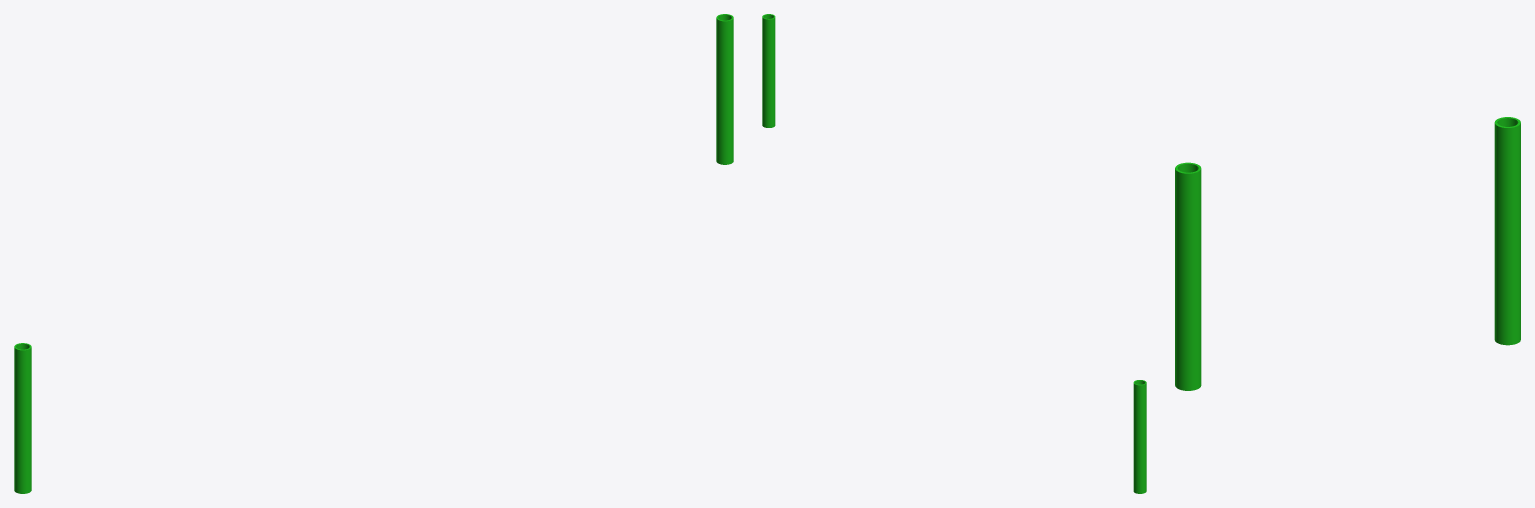
The model's file is Task03_Recon_Blood14_Fire23_green.obj.
3 views of the same model, side by side, from view 1: azimuth 30°, elevation 25°; view 2: azimuth 150°, elevation 25°; view 3: azimuth 270°, elevation 25° (orthographic). The views are drawn at different scales.
Visible parts, largest first — view 1: lateral_bars; view 2: lateral_bars; view 3: lateral_bars.
Part boxes in pixels (<box>): lateral_bars: <box>14,14,733,493</box>; lateral_bars: <box>762,14,1146,493</box>; lateral_bars: <box>1175,117,1520,390</box>.
Size of the model in its own units: 1.36 by 0.8585 by 0.4398.
